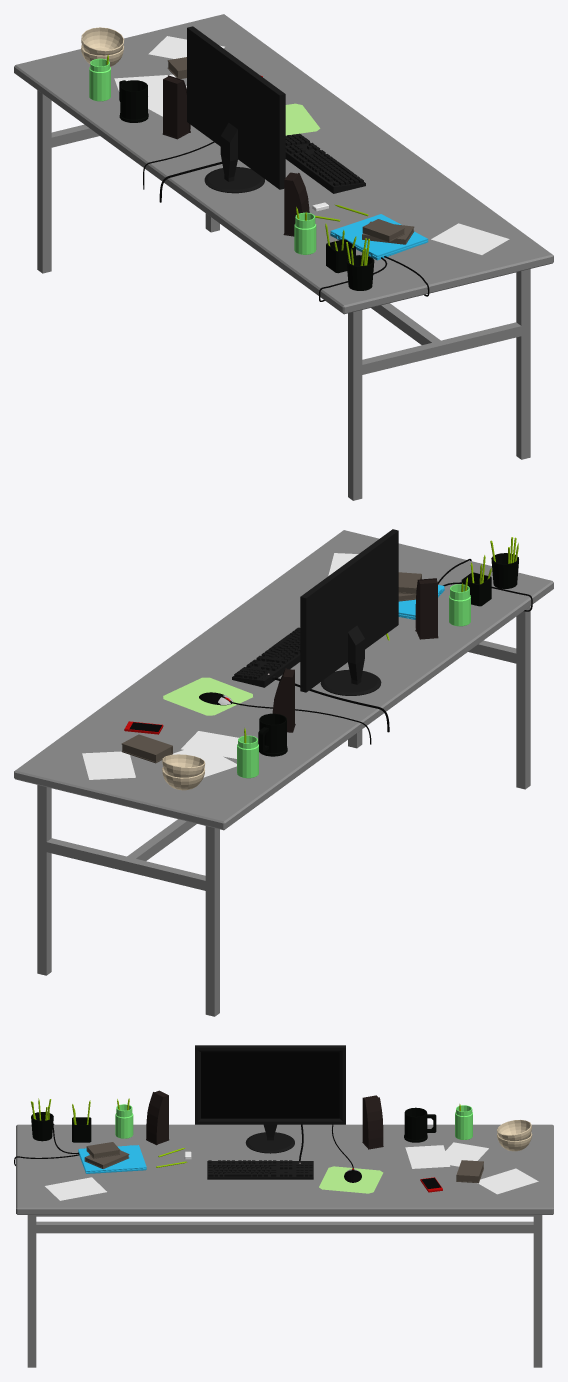
The model's file is mesa.glb.
The picture shows the model from 3 angles, top to bottom: view 1: azimuth 30°, elevation 25°; view 2: azimuth 150°, elevation 25°; view 3: azimuth 270°, elevation 25°; orthographic projection. The views are drawn at different scales.
Parts seen in each view (by area): view 1: Asset3DLoader.sceneRoot; view 2: Asset3DLoader.sceneRoot; view 3: Asset3DLoader.sceneRoot.
Part boxes in pixels (x1=…): Asset3DLoader.sceneRoot: x1=14, y1=14, x2=553, y2=500; Asset3DLoader.sceneRoot: x1=14, y1=529, x2=553, y2=1016; Asset3DLoader.sceneRoot: x1=14, y1=1045, x2=553, y2=1367.
Size of the model in its own units: 2.31 by 3.24 by 6.02.
